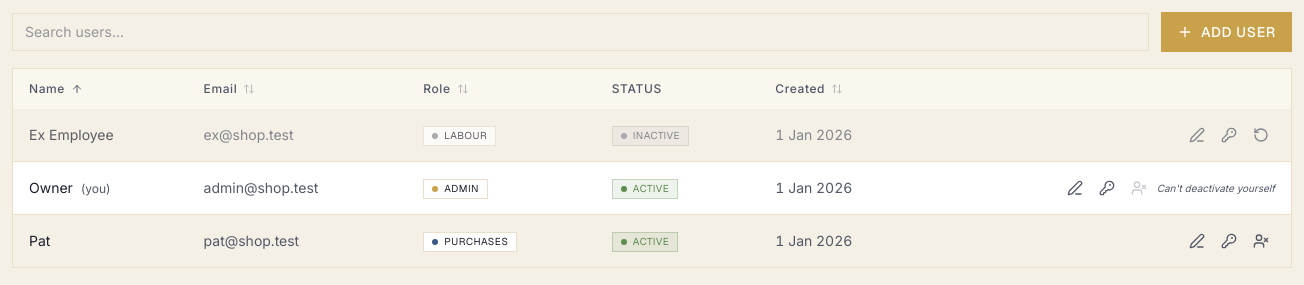
Test: UsersTable — search filter › filters by email
Type "ex@" into the search field with placeholder "Search users…".
click(580, 32); type("ex@")  # box [12,13,1149,51]
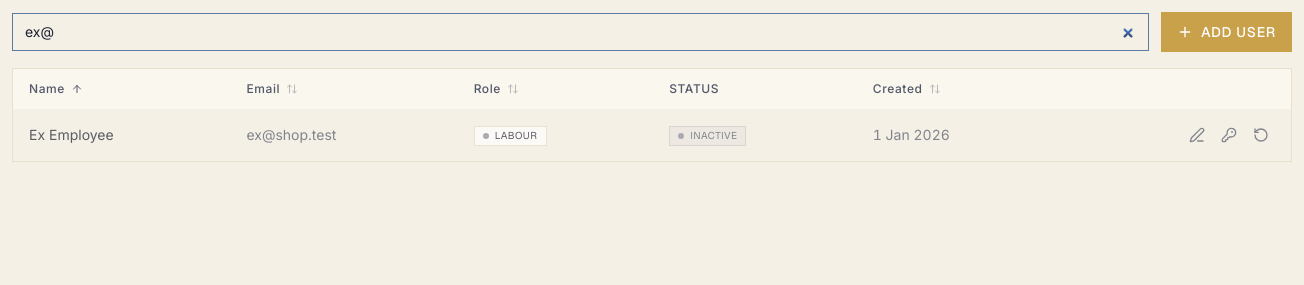
Expected: the row with test id "user-row-deactivated" is shown, [13,109,1291,161]
Expected: the row with test id "user-row-admin-1" is gone
Expected: the row with test id "user-row-p-1" is gone
